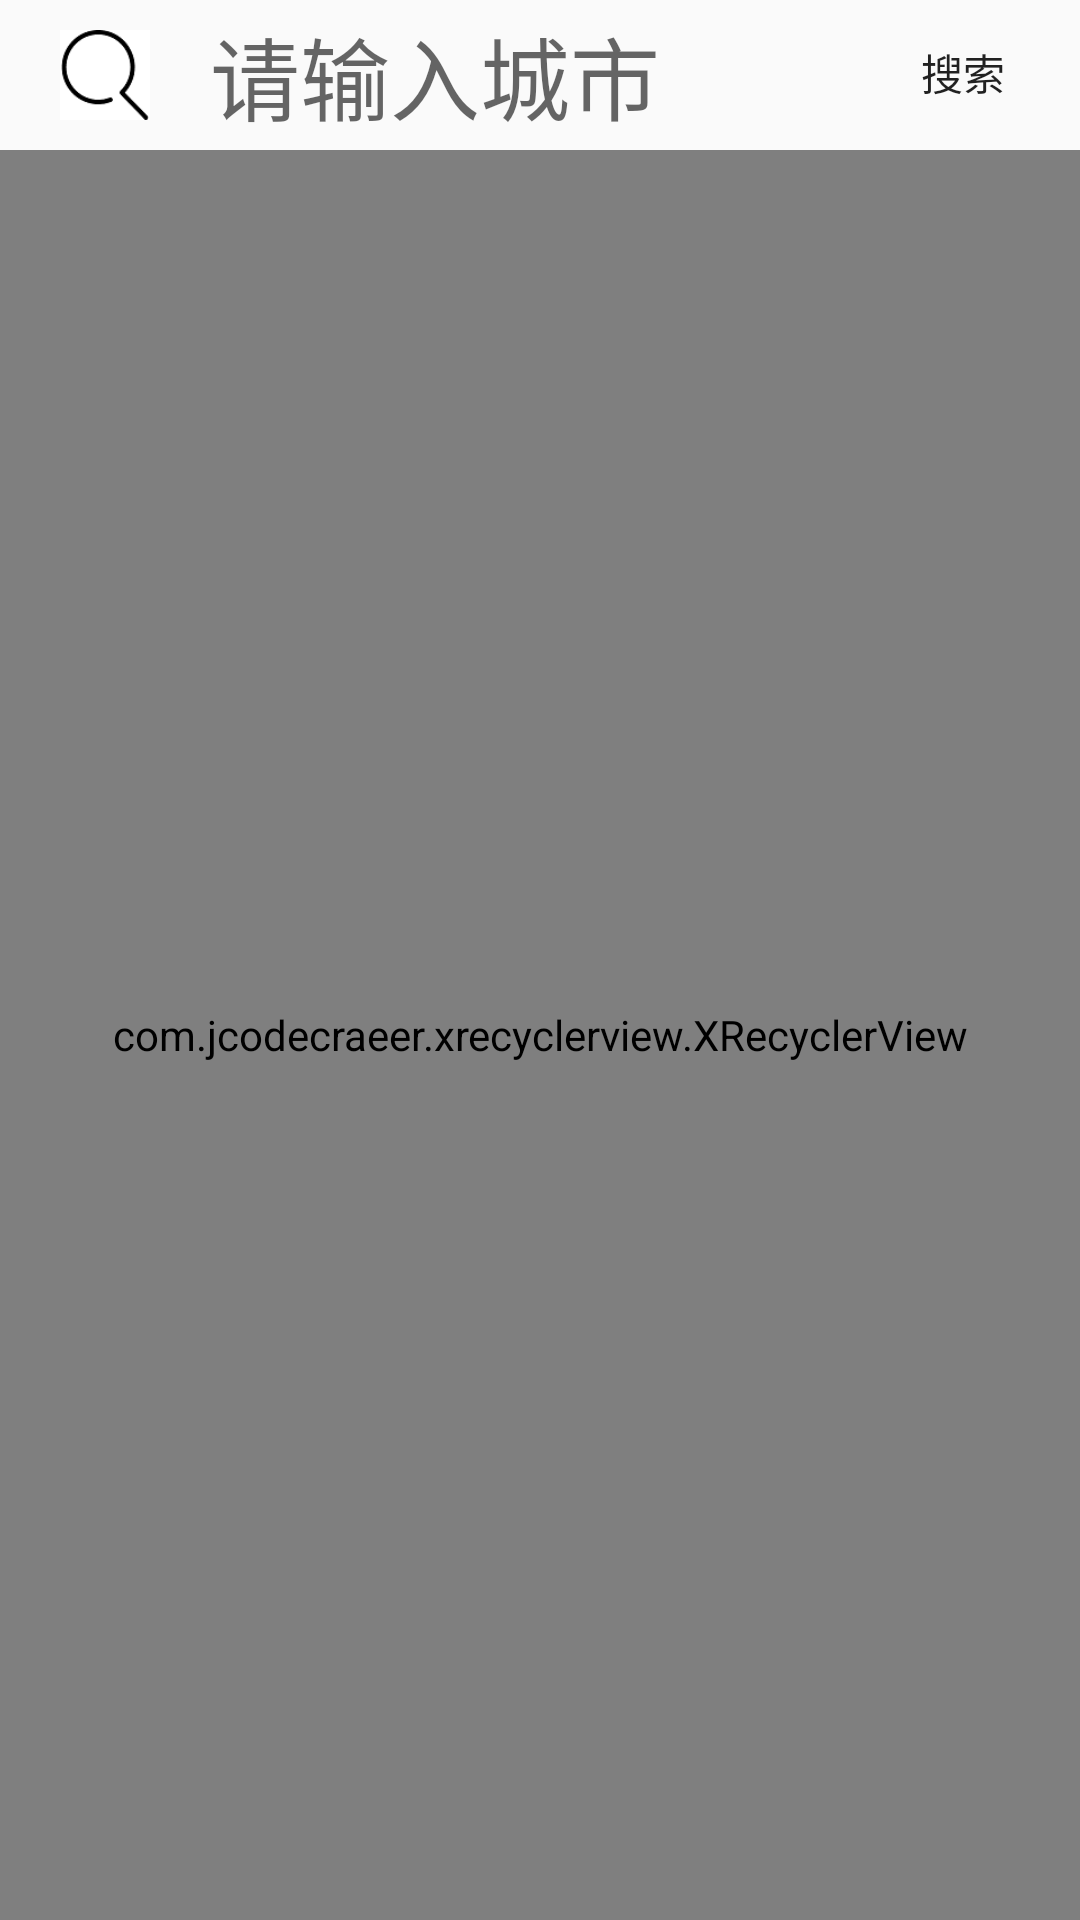

Screen size 1080px×1920px. Icon name, then its center in pixels as [x,y]:
search: [105,75]
